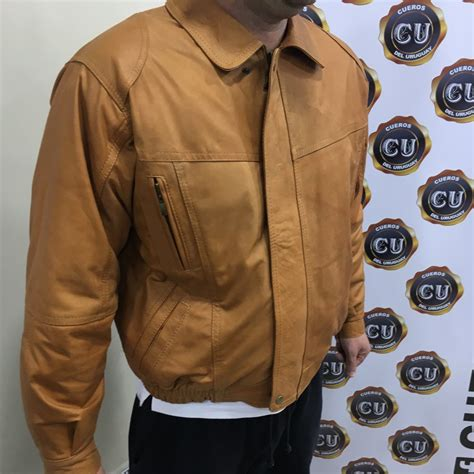cuero: (20, 3, 367, 474)
